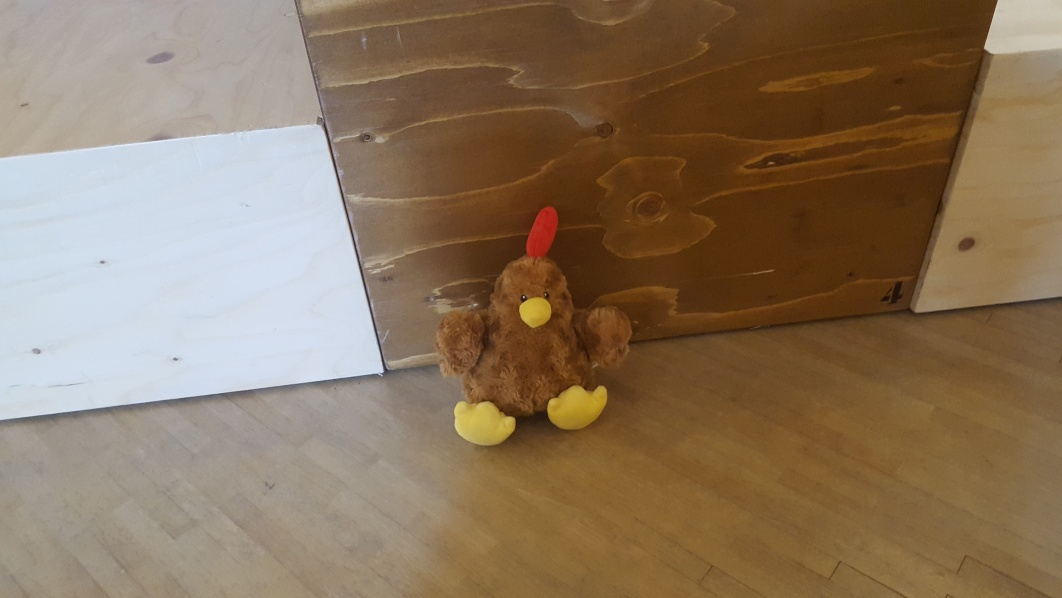chicken: (436, 203, 642, 444)
